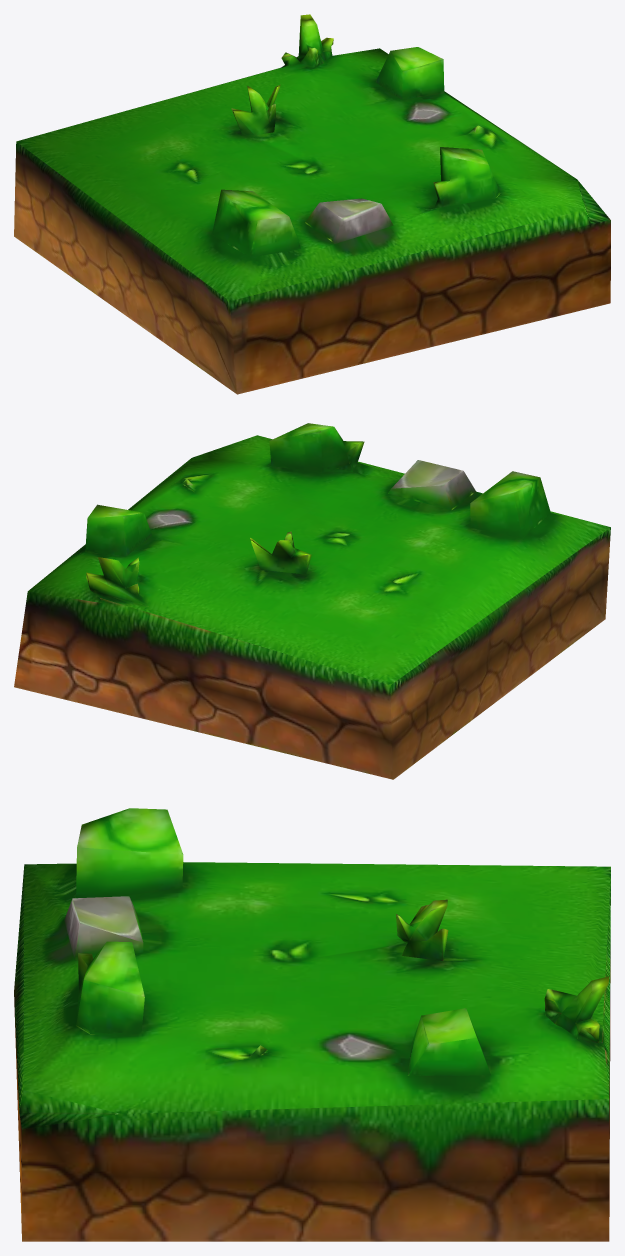
Rendered from gnd_grass.glb.
3 views of the same model, one above another, from view 1: azimuth 30°, elevation 25°; view 2: azimuth 150°, elevation 25°; view 3: azimuth 270°, elevation 25° (orthographic). The views are drawn at different scales.
Bounding box in the file's own units: 1.81 × 0.7099 × 1.8.
Materials: 1 (1 with a texture image).
